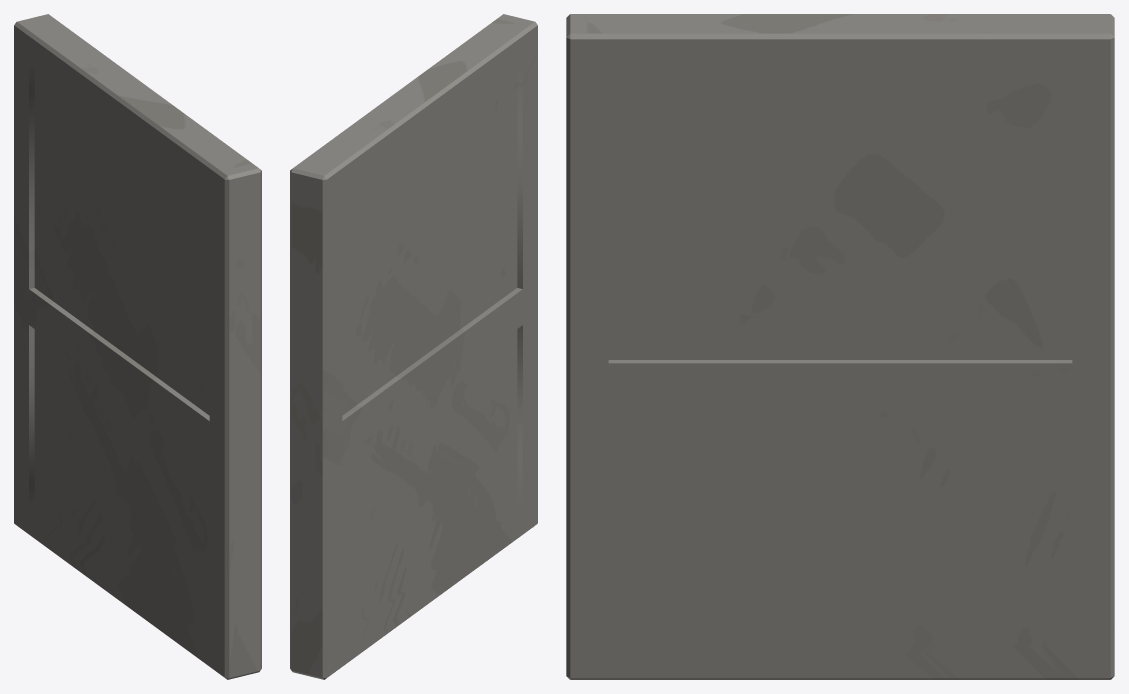
Rendered from model_concrete_wall_02.fbx.
The picture shows the model from 3 angles, left to right: view 1: azimuth 30°, elevation 25°; view 2: azimuth 150°, elevation 25°; view 3: azimuth 270°, elevation 25°; orthographic projection. The views are drawn at different scales.
Visible parts, largest first — view 1: model_concrete_wall_02; view 2: model_concrete_wall_02; view 3: model_concrete_wall_02.
Boxes of the visible parts, <box> form: model_concrete_wall_02: <box>14,14,261,679</box>; model_concrete_wall_02: <box>290,14,537,679</box>; model_concrete_wall_02: <box>566,14,1114,679</box>.
Size of the model in its own units: 50 by 650 by 500.
1 material, 1 textured.
